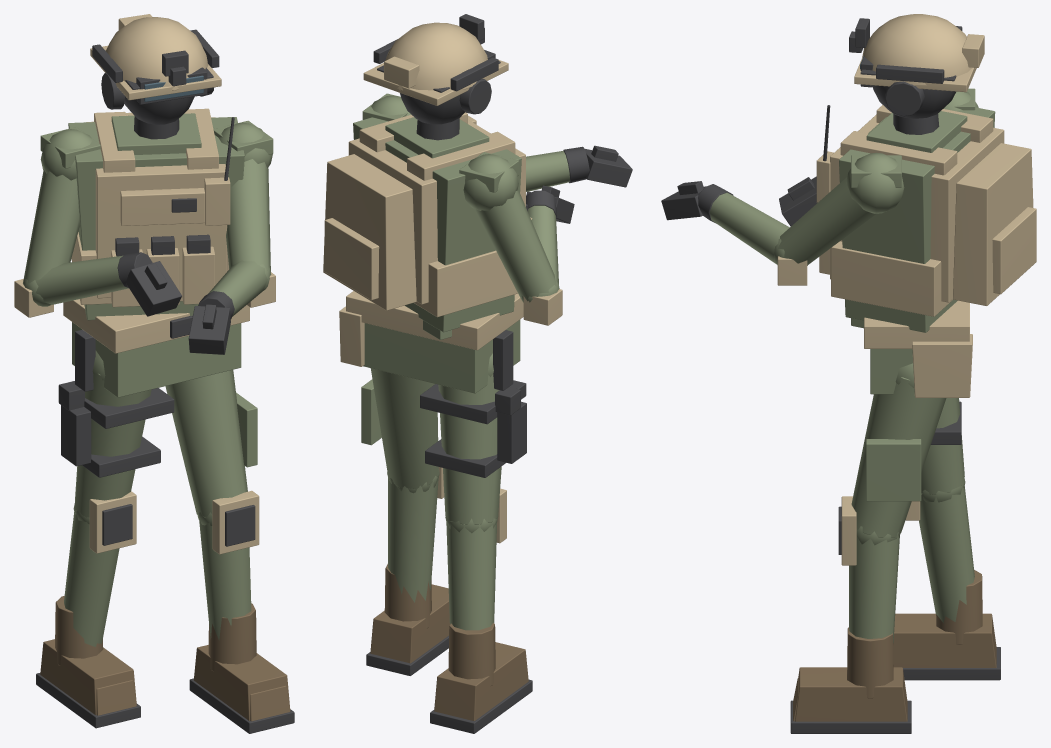
Rendered from operator.glb.
3 views of the same model, side by side, from view 1: azimuth 30°, elevation 25°; view 2: azimuth 150°, elevation 25°; view 3: azimuth 270°, elevation 25° (orthographic). The views are drawn at different scales.
Visible parts, largest first — view 1: Operator; view 2: Operator; view 3: Operator.
Part boxes in pixels (x1,y1,x2,y2): Operator: (14, 14, 294, 733); Operator: (323, 14, 632, 733); Operator: (661, 14, 1036, 733).
Size of the model in its own units: 0.6045 by 1.76 by 0.884.
